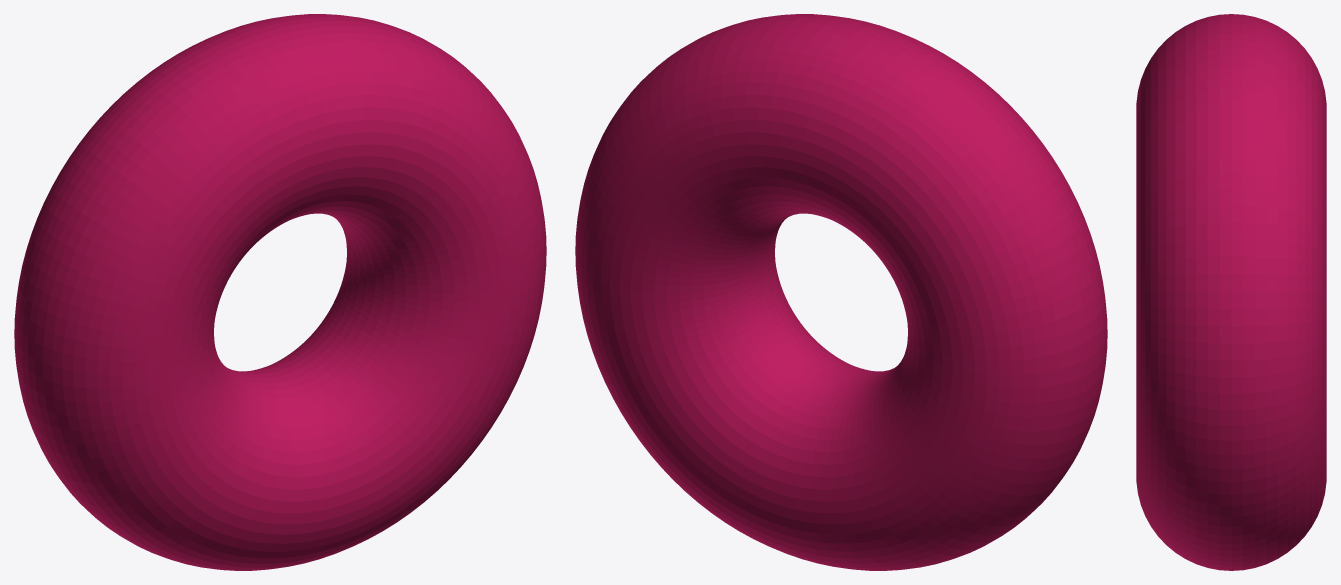
3 renders of one model, left to right at view 1: azimuth 30°, elevation 25°; view 2: azimuth 150°, elevation 25°; view 3: azimuth 270°, elevation 25°, orthographic. The views are drawn at different scales.
Parts seen in each view (by area): view 1: world; view 2: world; view 3: world.
Part boxes in pixels (x1,y1,x2,y2): world: [14, 14, 546, 570]; world: [575, 14, 1107, 570]; world: [1136, 14, 1326, 570].
Size of the model in its own units: 25.33 by 25.33 by 8.65.
